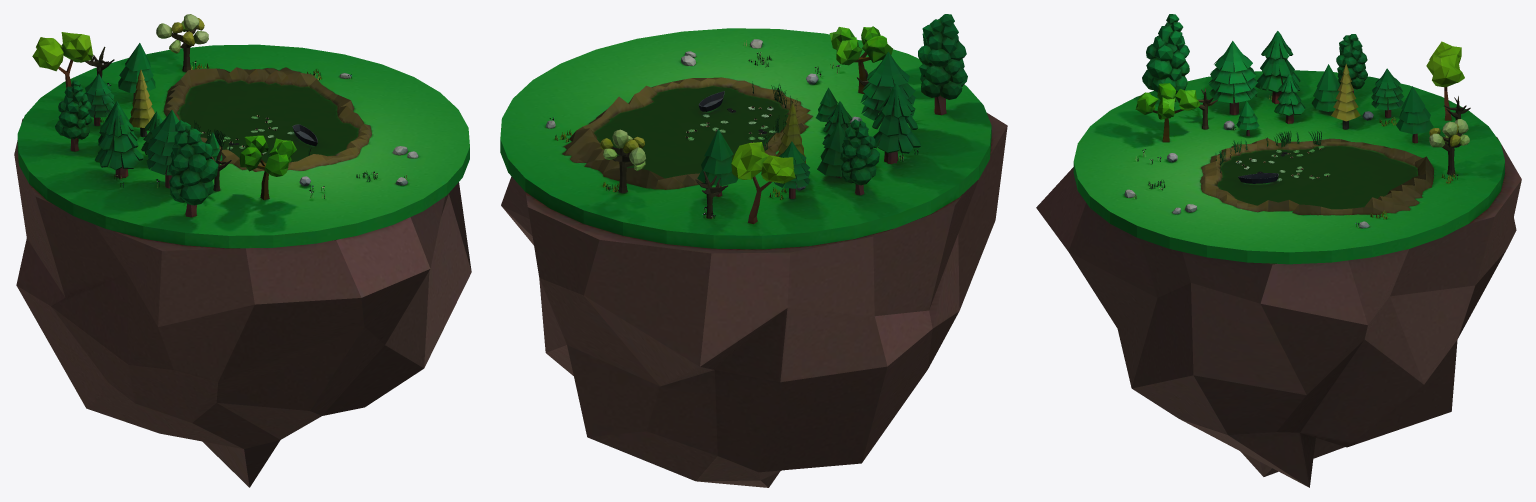
File: foret-baked.glb
3 renders of one model, left to right at view 1: azimuth 30°, elevation 25°; view 2: azimuth 150°, elevation 25°; view 3: azimuth 270°, elevation 25°, orthographic. The views are drawn at different scales.
Parts seen in each view (by area): view 1: baked-0, live-Куб.001; view 2: baked-0, live-Куб.001; view 3: baked-0, live-Куб.001.
Part boxes in pixels (<box>): baked-0: <box>14,14,471,487</box>; live-Куб.001: <box>178,79,358,162</box>; baked-0: <box>500,14,1007,487</box>; live-Куб.001: <box>593,85,788,177</box>; baked-0: <box>1036,14,1521,487</box>; live-Куб.001: <box>1215,145,1418,208</box>.
Size of the model in its own units: 15.37 by 15.91 by 17.12.
Materials: 2 (1 with a texture image).
